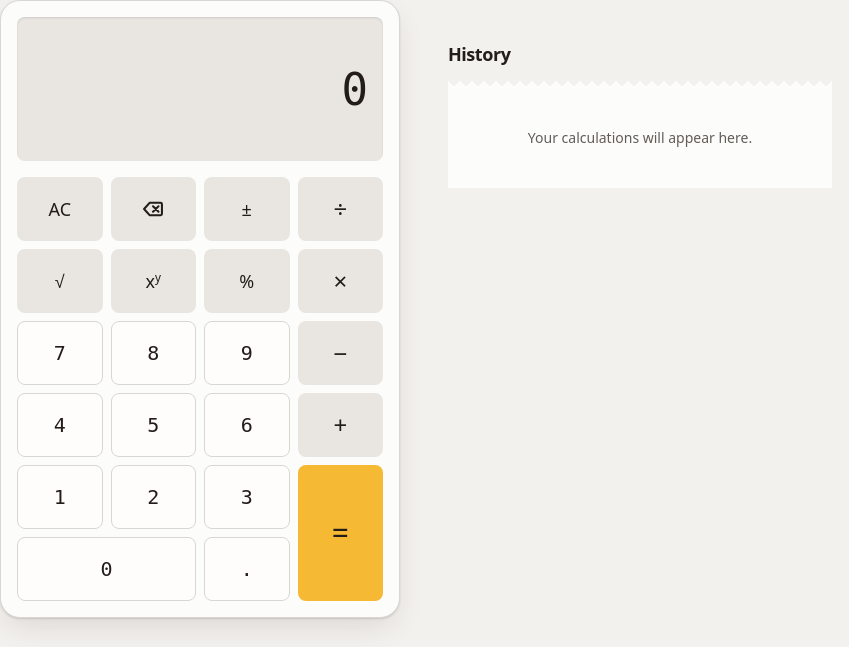
CalculatorWorkspace › never shows a malformed API answer as a number
Click the button "2" at (153, 497), box [110,465,196,529]
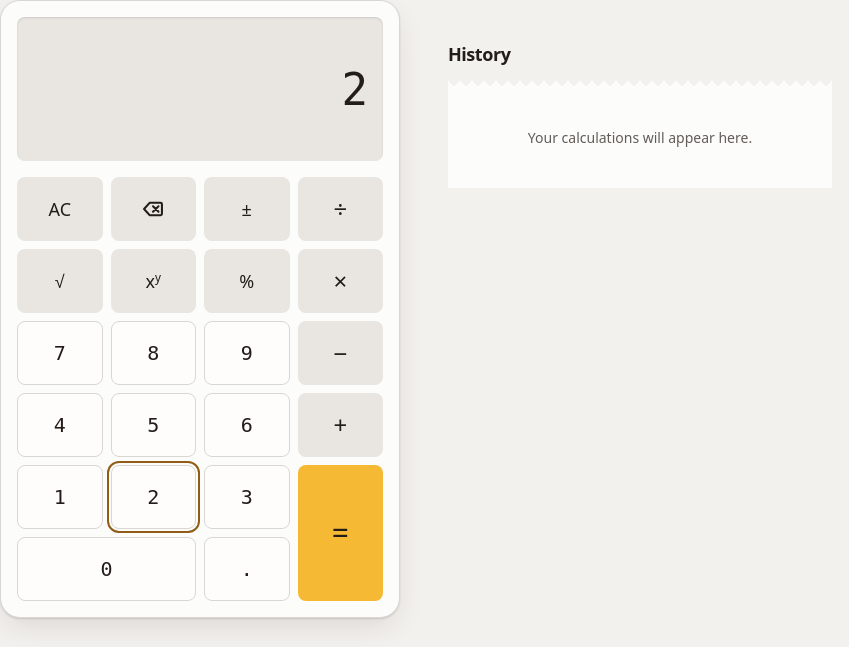
Click the button named "Add" at (340, 425), box [298,393,383,457]
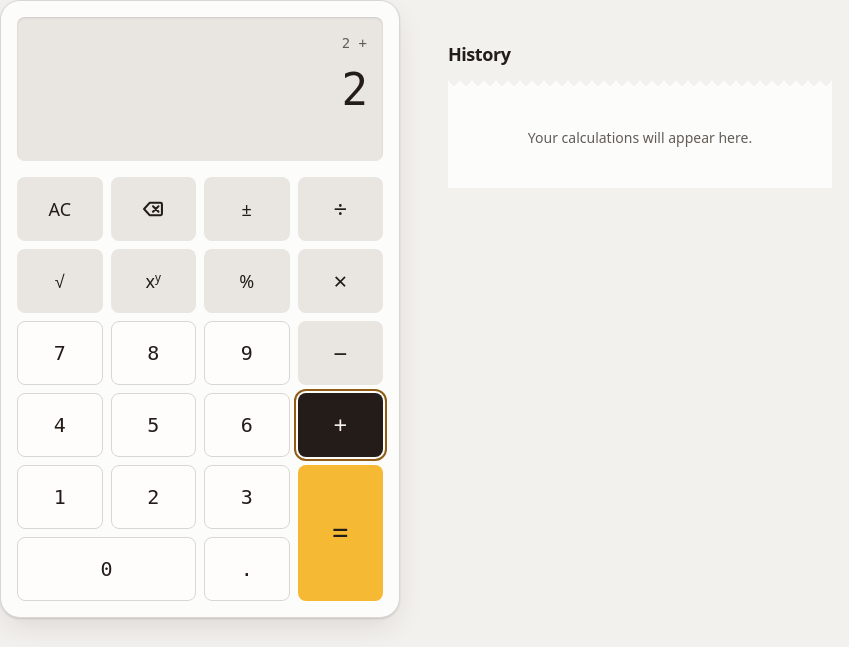
Click the button "2" at (153, 497), box [110,465,196,529]
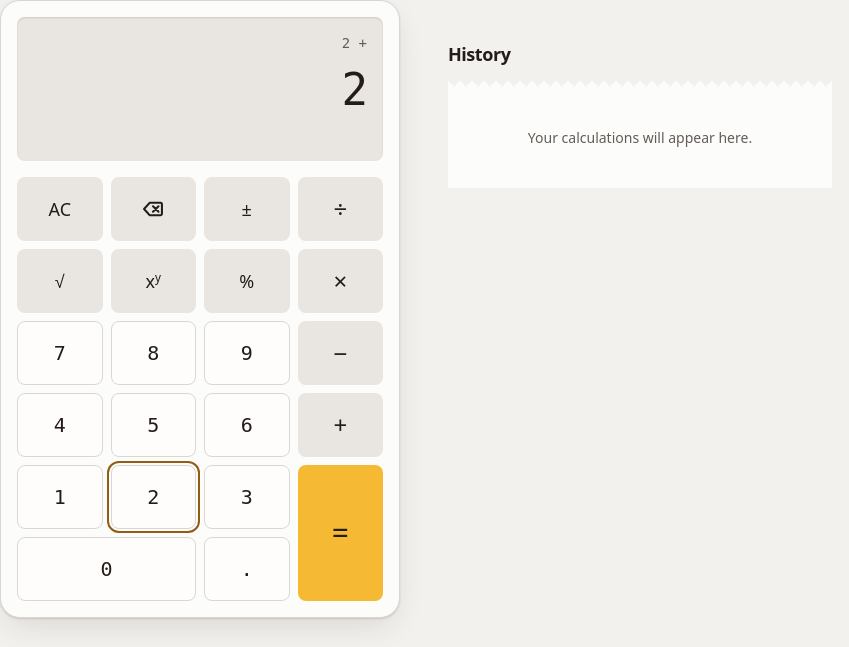
Click the button named "Equals" at (340, 533), box [298,465,383,601]
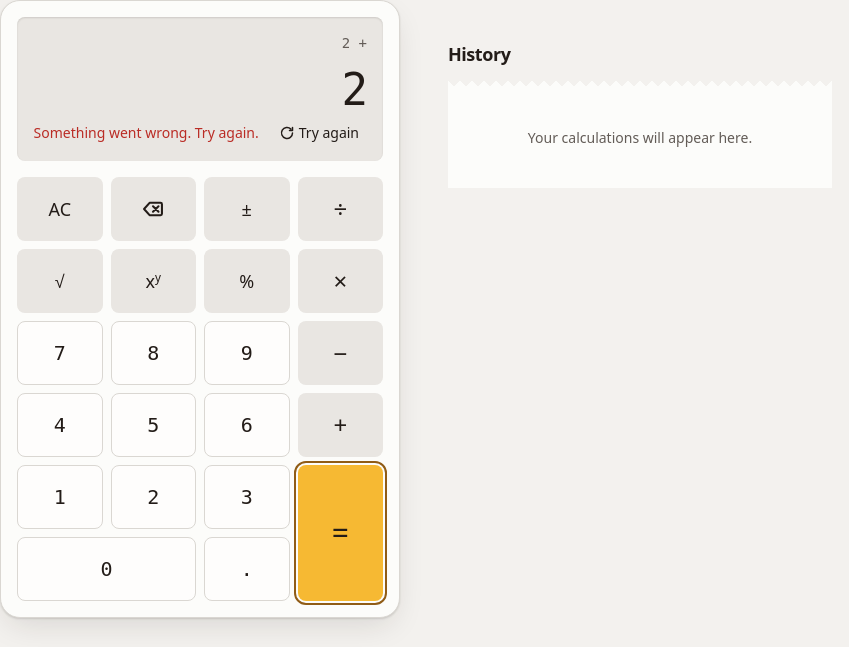
Now the message "Something went wrong. Try again. Try again" is shown, box [34,121,367,145]
